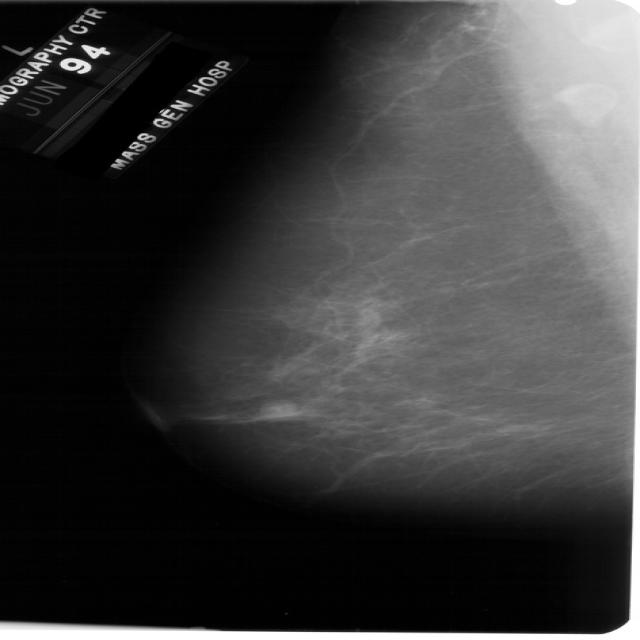tumour: (256, 398, 296, 418)
